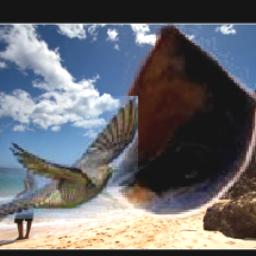Cuckoo: (0, 97, 138, 220)
Swallow: (85, 24, 256, 220)
